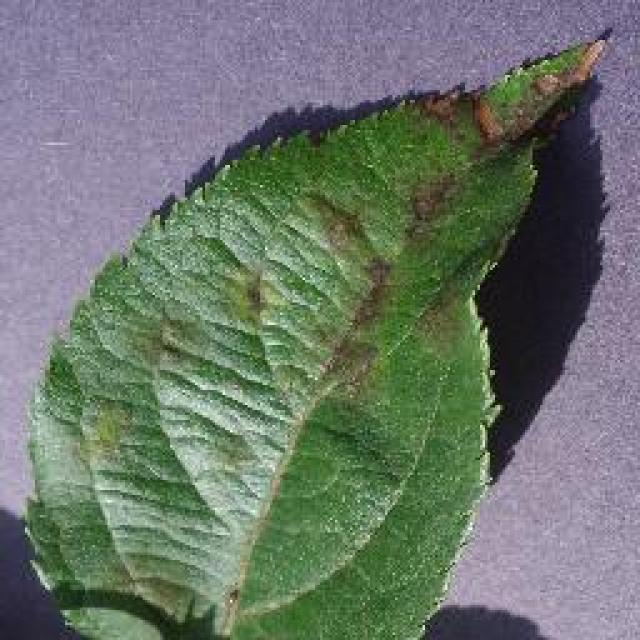apple scab disease: (20, 22, 612, 638)
